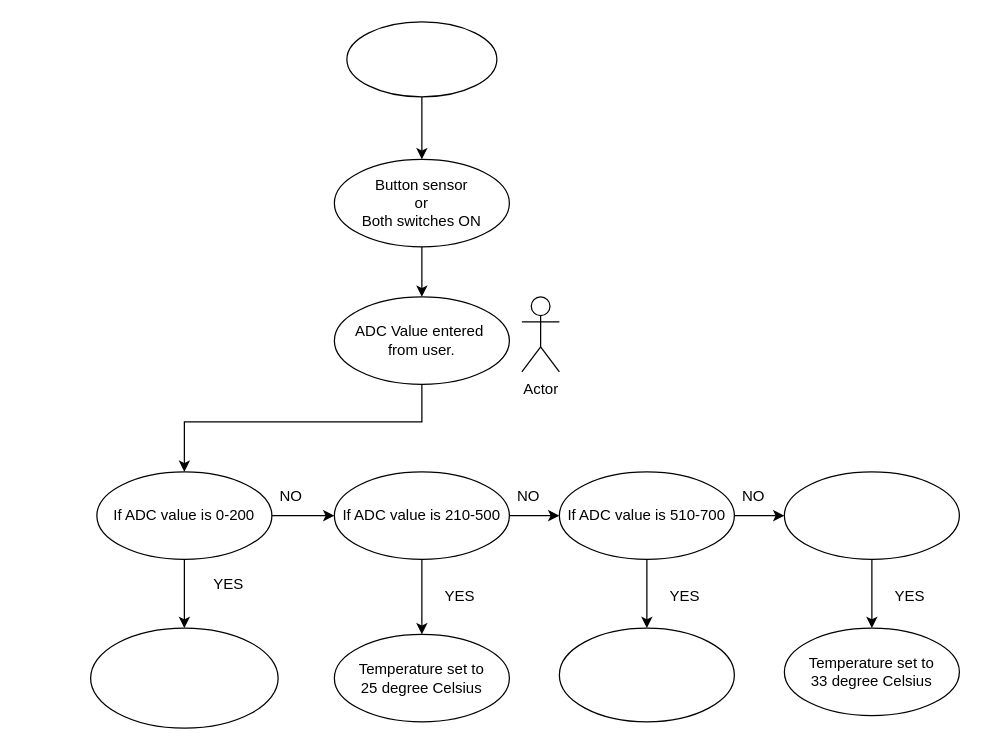
The diagram is 981 pixels wide and 750 high, and some of its shapes have lost their labels. Here are the shapes that lost their labels. From the top down, the centre of each, then its label:
At [421,59]: "START".
At [871,515]: "If ADC value is 710-1024".
At [183,677]: "Temperature set to 20 degree Celsius".
At [646,674]: "Temperature set to 29 degree Celsius".
